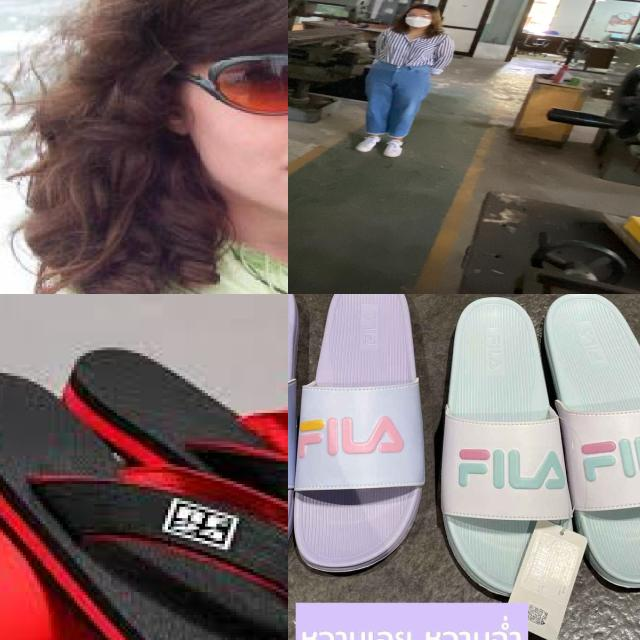Sandals: (0, 330, 288, 640), (437, 294, 640, 632), (288, 294, 437, 596)
face_mask: (401, 10, 435, 28)
face_nomask: (206, 44, 288, 198)
glasses: (172, 32, 288, 107), (402, 11, 432, 21)
head_nohelmet: (133, 0, 288, 63), (404, 1, 440, 14)
person: (0, 0, 288, 294)
shoes: (348, 131, 382, 154), (381, 137, 410, 159)
